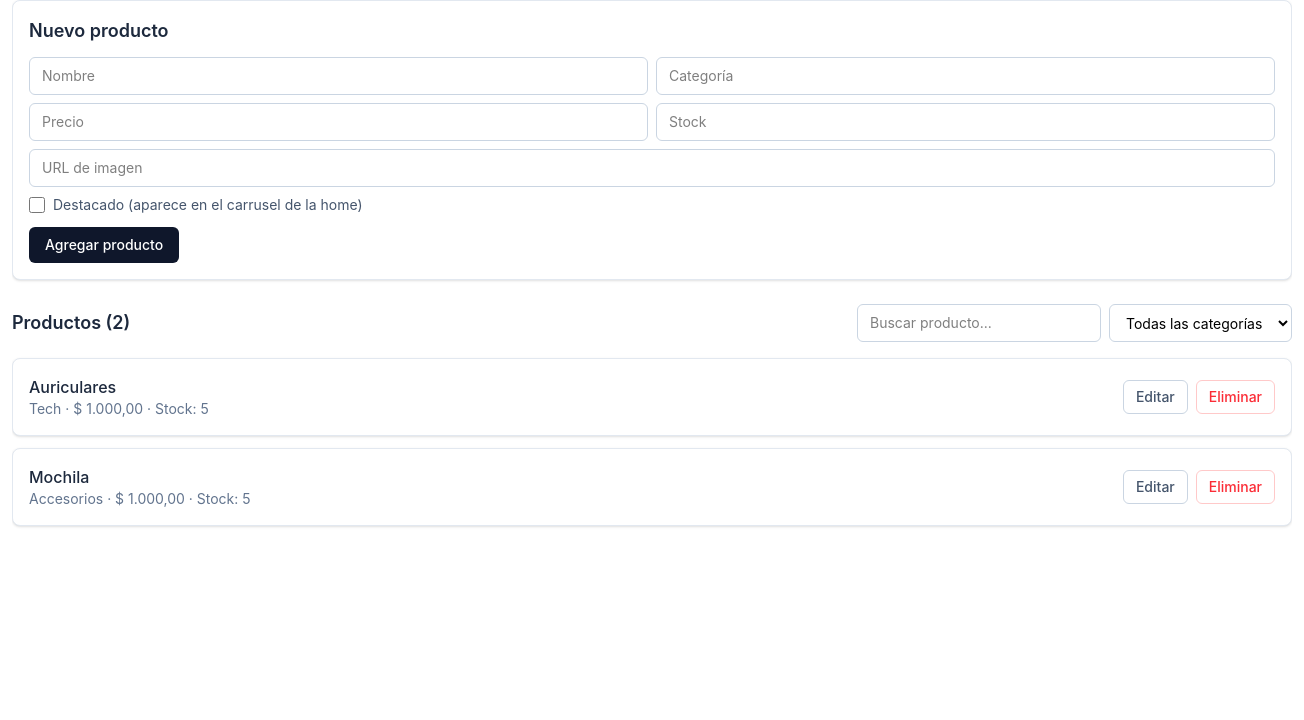
AdminProducts › filtra productos por categoría
Expected: the text "Auriculares" is shown, [29,377,116,397]
Select "Tech" in the dropdown showing "Todas las categorías" at (1200, 323), box [1109,304,1292,342]
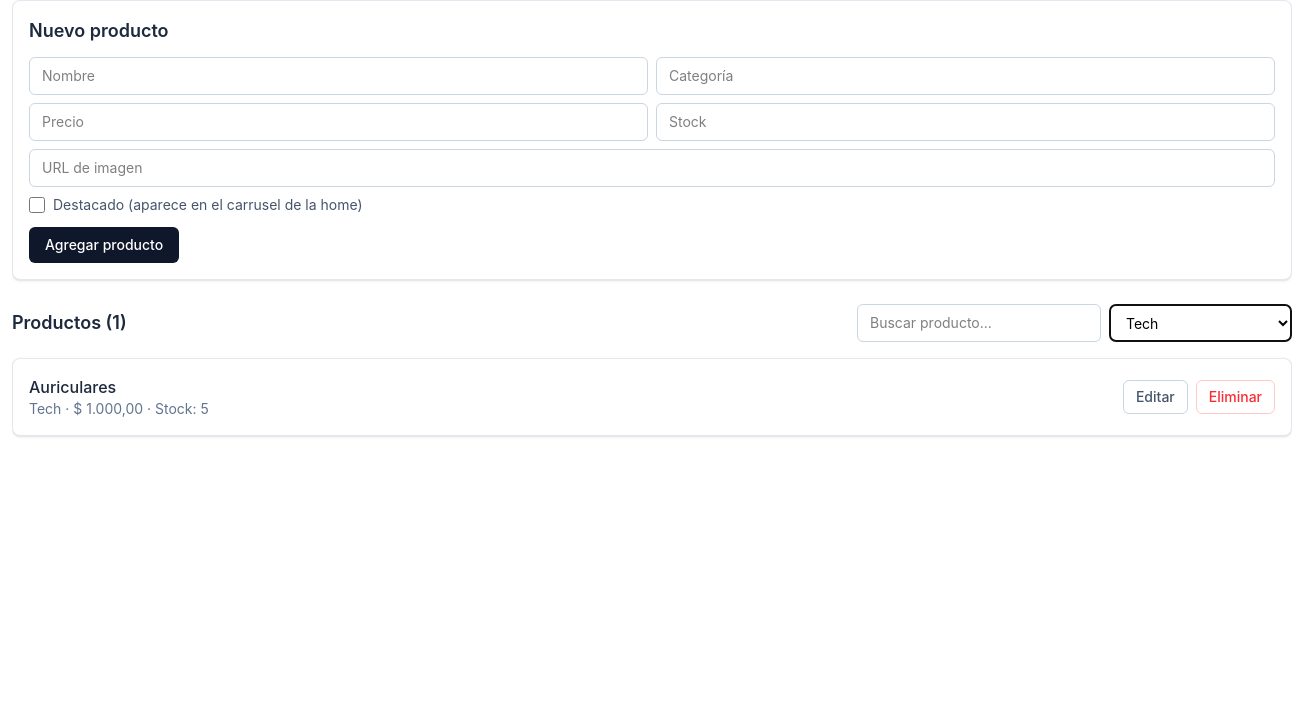
Expected: the text "Auriculares" is shown, [29,377,116,397]
Expected: the text "Mochila" is gone
